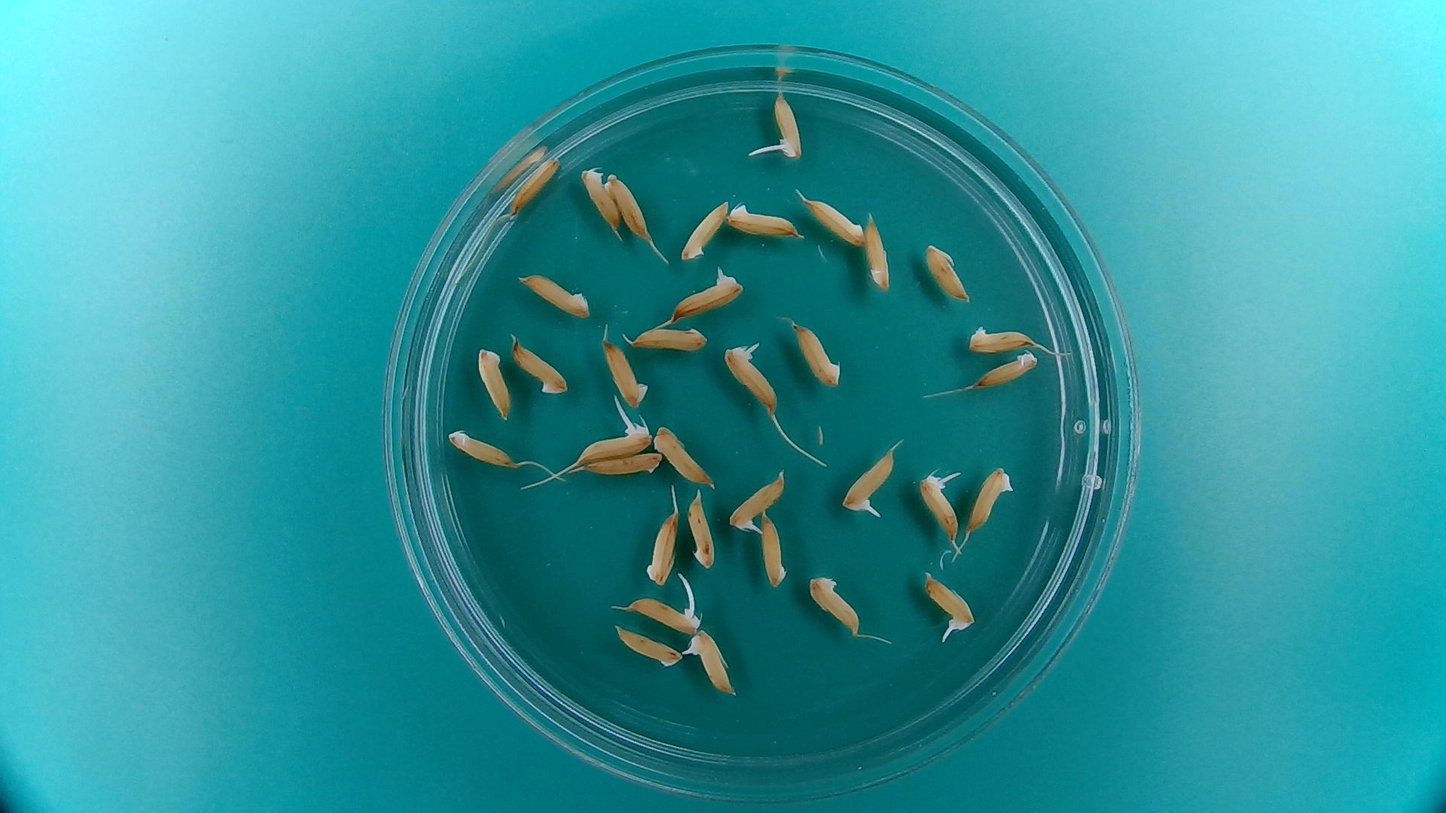no: (791, 316, 847, 391), (512, 268, 593, 319), (797, 190, 868, 248), (506, 333, 571, 396), (599, 336, 652, 409), (652, 425, 714, 487), (678, 194, 732, 263), (807, 572, 864, 637), (966, 463, 1015, 536), (605, 169, 652, 244), (507, 154, 562, 216), (724, 199, 805, 240), (578, 162, 624, 233), (611, 623, 683, 668), (474, 344, 514, 422), (444, 426, 516, 469), (645, 507, 681, 588), (685, 488, 718, 573), (863, 209, 895, 296), (972, 350, 1041, 390), (758, 506, 790, 592), (627, 321, 710, 353), (969, 319, 1037, 355), (581, 452, 663, 477)
yes: (667, 262, 751, 322), (840, 440, 901, 521), (728, 467, 792, 534), (720, 344, 780, 414), (686, 629, 740, 701), (920, 242, 974, 306), (576, 423, 654, 464), (918, 468, 959, 539), (629, 595, 700, 635), (926, 578, 975, 633), (770, 87, 805, 160)
